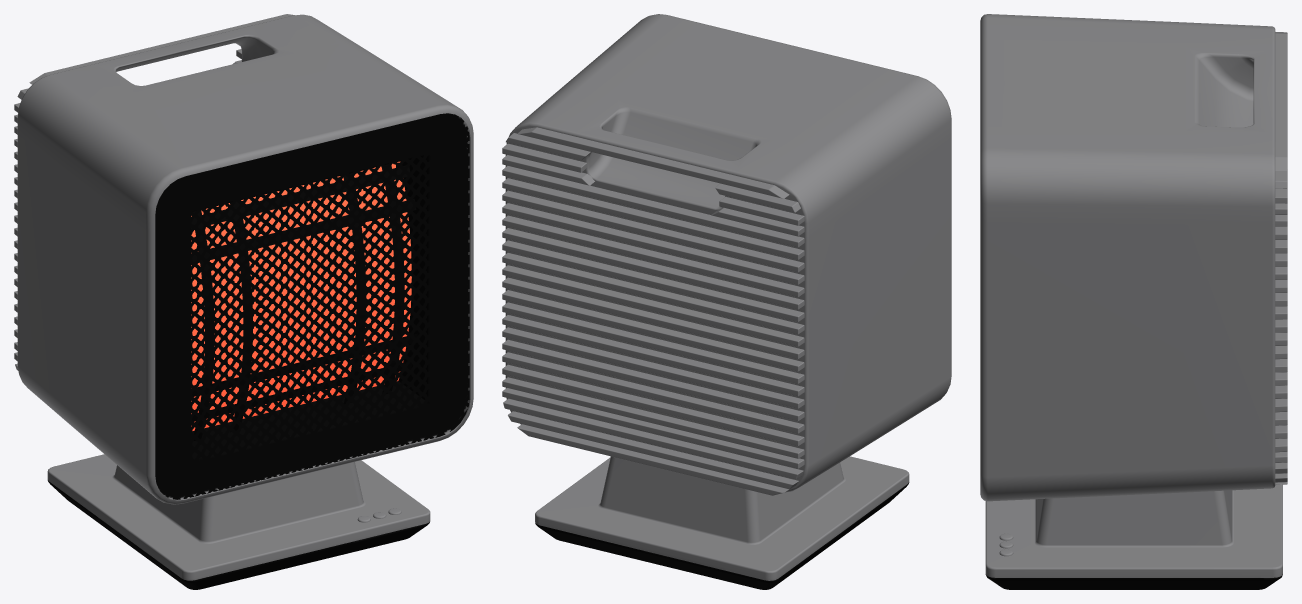
File: electronic_32_01.001.fbx
3 renders of one model, left to right at view 1: azimuth 30°, elevation 25°; view 2: azimuth 150°, elevation 25°; view 3: azimuth 270°, elevation 25°, orthographic. The views are drawn at different scales.
Visible parts, largest first — view 1: electronic_32_01.001; view 2: electronic_32_01.001; view 3: electronic_32_01.001.
Boxes of the visible parts, x1=… form: electronic_32_01.001: x1=14, y1=14, x2=473, y2=589; electronic_32_01.001: x1=502, y1=14, x2=951, y2=589; electronic_32_01.001: x1=980, y1=14, x2=1287, y2=589.
Bounding box in the file's own units: 23.47 × 29.73 × 18.36.
Materials: 1 (1 with a texture image).
